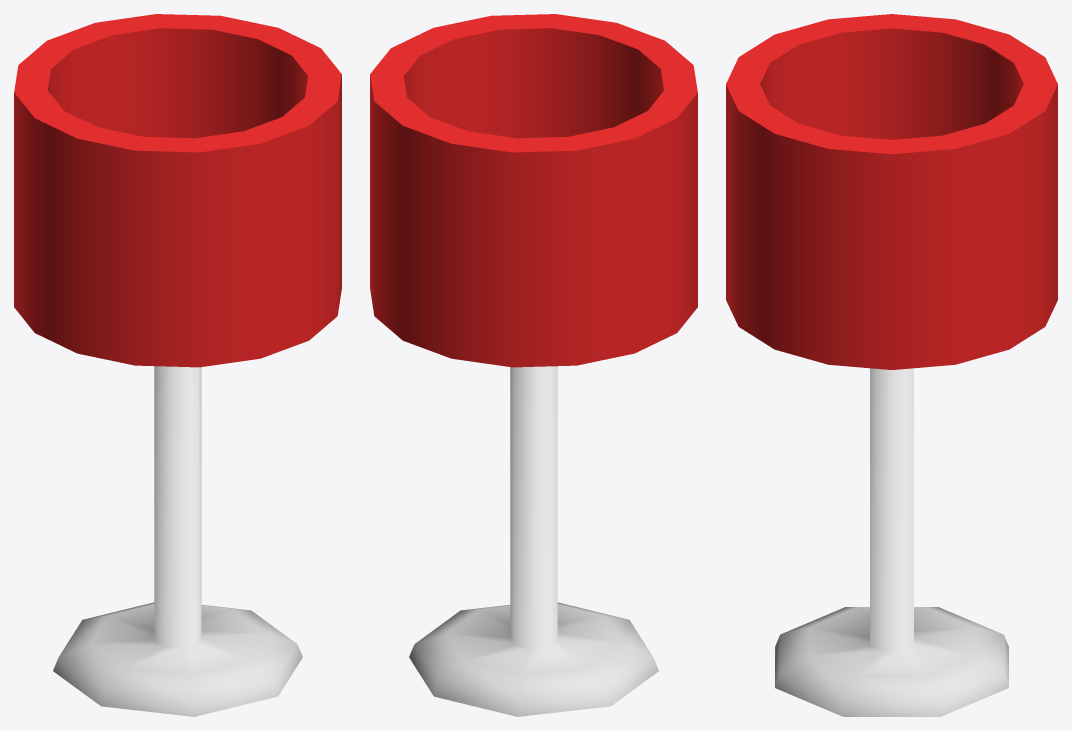
Rendered from Lamp_1_Small.fbx.
3 renders of one model, left to right at view 1: azimuth 30°, elevation 25°; view 2: azimuth 150°, elevation 25°; view 3: azimuth 270°, elevation 25°, orthographic.
Visible parts, largest first — view 1: Lamp_1_Small; view 2: Lamp_1_Small; view 3: Lamp_1_Small.
Part boxes in pixels (bbox=[...]): Lamp_1_Small: bbox=[14, 14, 341, 716]; Lamp_1_Small: bbox=[370, 14, 697, 716]; Lamp_1_Small: bbox=[726, 14, 1057, 716].
Size of the model in its own units: 21.31 by 41.31 by 21.31.
